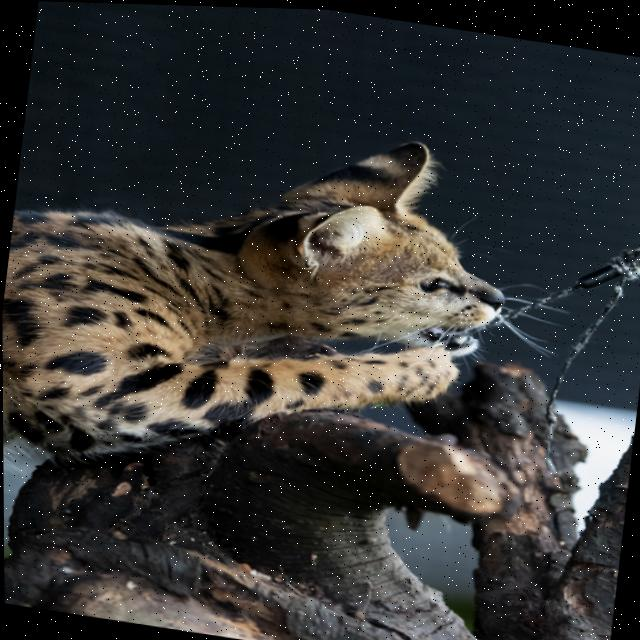Savannah: (0, 77, 530, 563)
